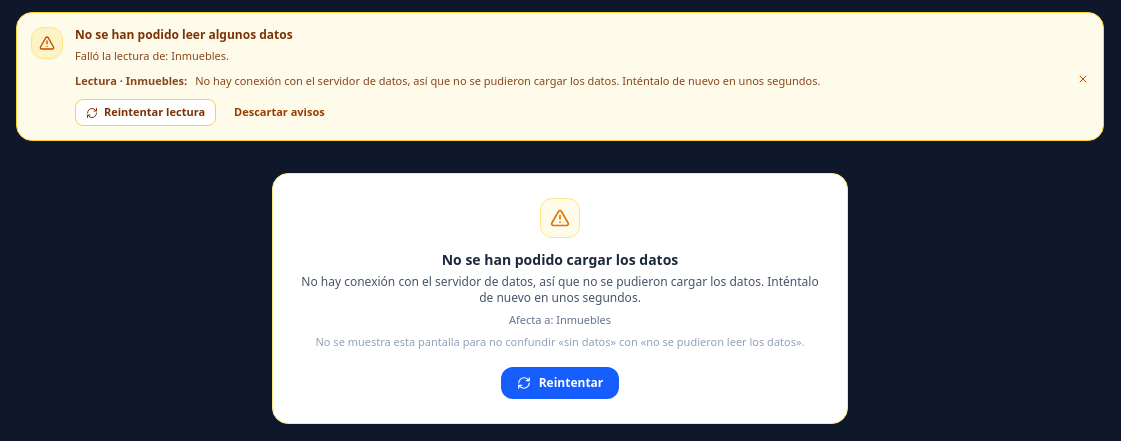
Test: UX-2 · REINTENTAR: re-ejecuta la lectura real sin recargar la página › el aviso de lectura también permite reintentar desde el propio aviso
Click the button "Reintentar lectura" at (146,113), box [75,99,216,126]
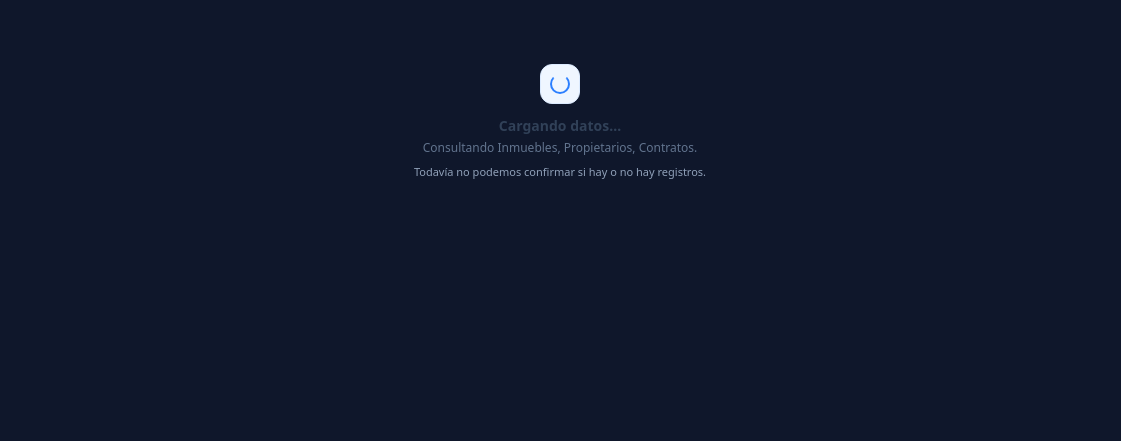
Expected: the text "No se han podido leer algunos datos" is gone
